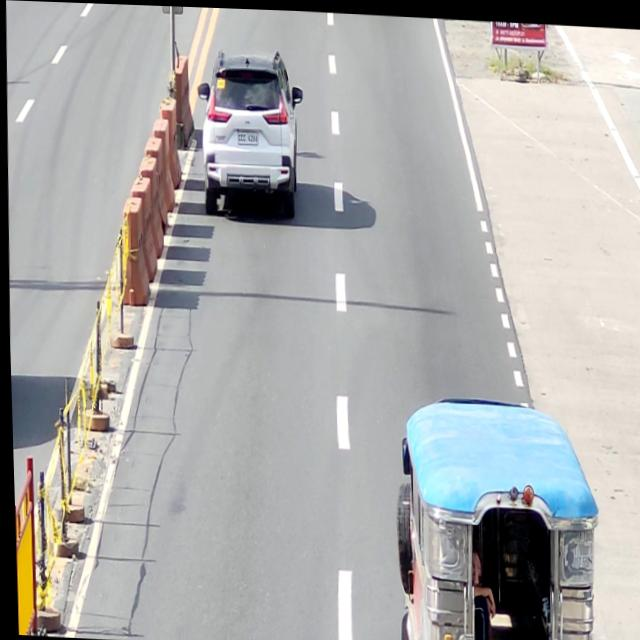Car: (193, 43, 305, 217)
Jeep: (387, 389, 600, 640)
License-Plate: (235, 126, 258, 143)
